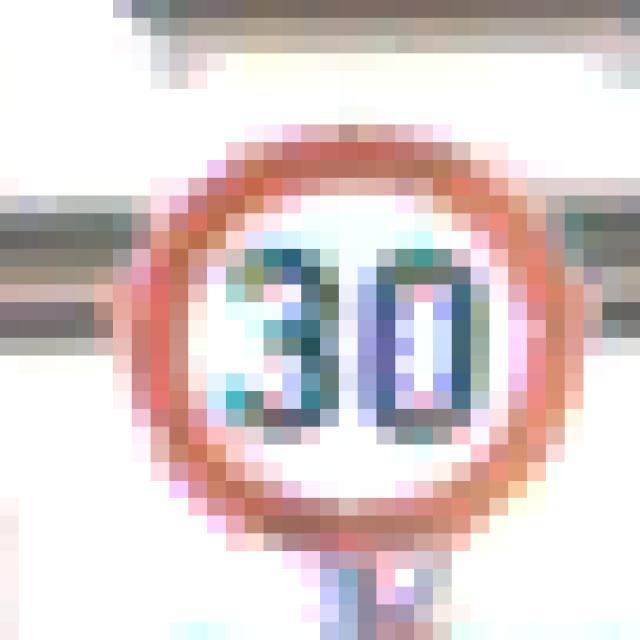Speed Limit -30-: (85, 98, 518, 524)
